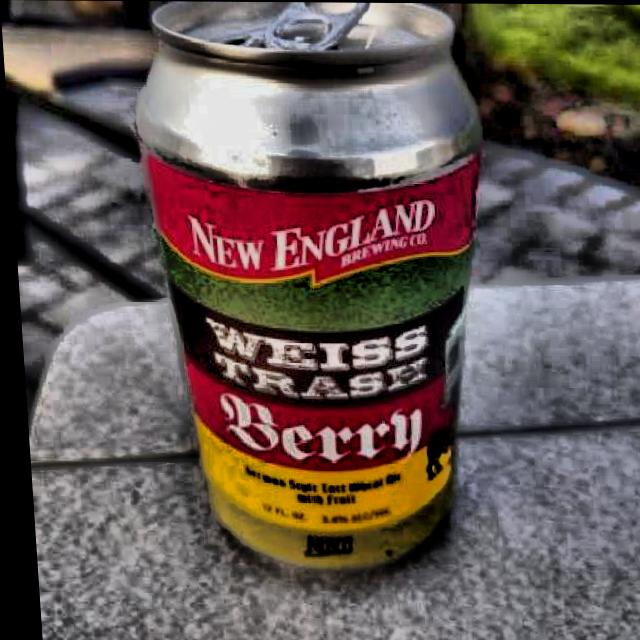can: (127, 1, 509, 588)
